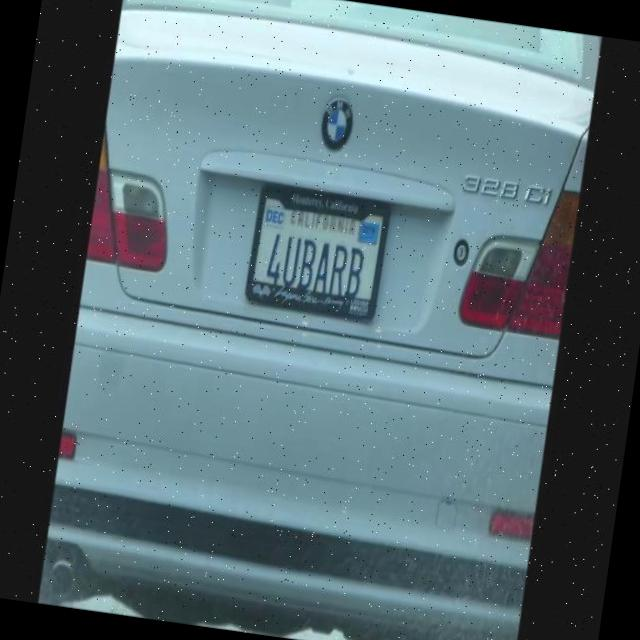LicensePlate: (244, 184, 394, 326)
